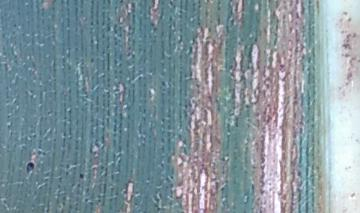tarspot: (22, 161, 38, 174), (77, 172, 87, 183)
